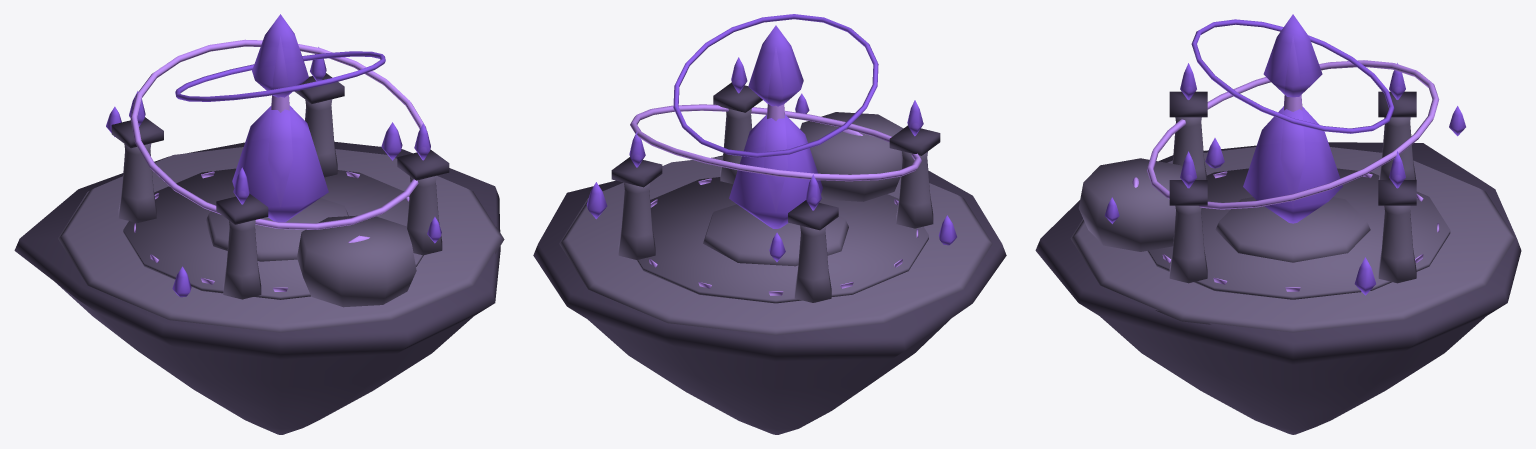
The model's file is nexus_arcane.obj.
3 views of the same model, side by side, from view 1: azimuth 30°, elevation 25°; view 2: azimuth 150°, elevation 25°; view 3: azimuth 270°, elevation 25° (orthographic). The views are drawn at different scales.
Visible parts, largest first — view 1: Island, IslandTop, RuneFloor, Portal, Spire1, RuneRingA, SpireBase, Spire2, Pillar_2, Pillar_1, RuneRingB, Pillar_3 (+6 smaller); view 2: Island, IslandTop, RuneFloor, Spire1, Portal, SpireBase, RuneRingA, RuneRingB, Spire2, Pillar_1, Pillar_0, Pillar_2 (+6 smaller); view 3: Island, IslandTop, RuneFloor, Portal, Spire1, SpireBase, RuneRingA, Spire2, RuneRingB, Pillar_0, Pillar_3, Pillar_2 (+6 smaller).
Boxes of the visible parts, bbox=[...] form: Island: bbox=[14, 141, 500, 434]; IslandTop: bbox=[58, 147, 504, 332]; RuneFloor: bbox=[123, 168, 423, 299]; Portal: bbox=[297, 215, 416, 307]; Spire1: bbox=[232, 105, 328, 222]; RuneRingA: bbox=[130, 39, 426, 229]; SpireBase: bbox=[205, 198, 348, 261]; Spire2: bbox=[252, 14, 308, 97]; Pillar_2: bbox=[223, 220, 261, 299]; Pillar_1: bbox=[118, 143, 156, 222]; RuneRingB: bbox=[175, 51, 385, 101]; Pillar_3: bbox=[406, 176, 442, 255]; Island: bbox=[533, 155, 1006, 434]; IslandTop: bbox=[559, 156, 992, 335]; RuneFloor: bbox=[636, 177, 928, 303]; Spire1: bbox=[729, 114, 822, 228]; Portal: bbox=[800, 112, 903, 201]; SpireBase: bbox=[703, 204, 848, 266]; RuneRingA: bbox=[630, 104, 921, 181]; RuneRingB: bbox=[673, 14, 878, 157]; Spire2: bbox=[748, 25, 803, 106]; Pillar_1: bbox=[794, 225, 831, 302]; Pillar_0: bbox=[618, 182, 655, 259]; Pillar_2: bbox=[896, 151, 933, 228]; Island: bbox=[1035, 142, 1521, 434]; IslandTop: bbox=[1070, 147, 1515, 332]; RuneFloor: bbox=[1147, 168, 1450, 299]; Portal: bbox=[1078, 158, 1202, 251]; Spire1: bbox=[1243, 106, 1342, 223]; SpireBase: bbox=[1215, 197, 1370, 262]; RuneRingA: bbox=[1147, 60, 1439, 209]; Spire2: bbox=[1263, 14, 1322, 97]; RuneRingB: bbox=[1191, 19, 1394, 133]; Pillar_0: bbox=[1378, 205, 1416, 283]; Pillar_3: bbox=[1169, 205, 1207, 283]; Pillar_2: bbox=[1172, 117, 1207, 179].
Bounding box in the file's own units: 10.2 × 9.7 × 10.2.
